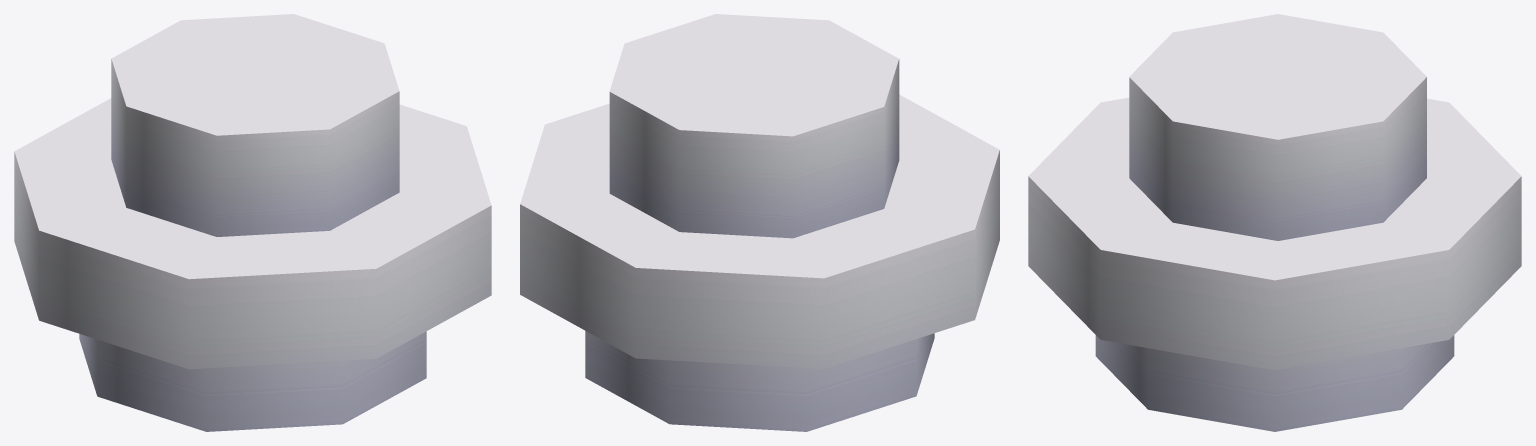
Rendered from bevel-lq-plate-1x1-round.glb.
3 renders of one model, left to right at view 1: azimuth 30°, elevation 25°; view 2: azimuth 150°, elevation 25°; view 3: azimuth 270°, elevation 25°, orthographic.
Parts seen in each view (by area): view 1: bevel-lq-plate-1x1-round; view 2: bevel-lq-plate-1x1-round; view 3: bevel-lq-plate-1x1-round.
Part boxes in pixels (x1,y1,x2,y2): bevel-lq-plate-1x1-round: [14, 14, 491, 431]; bevel-lq-plate-1x1-round: [520, 14, 999, 431]; bevel-lq-plate-1x1-round: [1028, 14, 1521, 431].
Size of the model in its own units: 0.0795 by 0.05 by 0.0795.
Materials: 1 (1 with a texture image).
